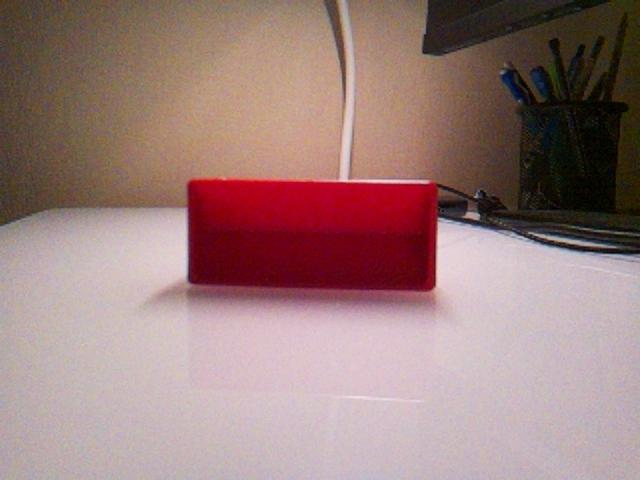red: (186, 176, 440, 292)
